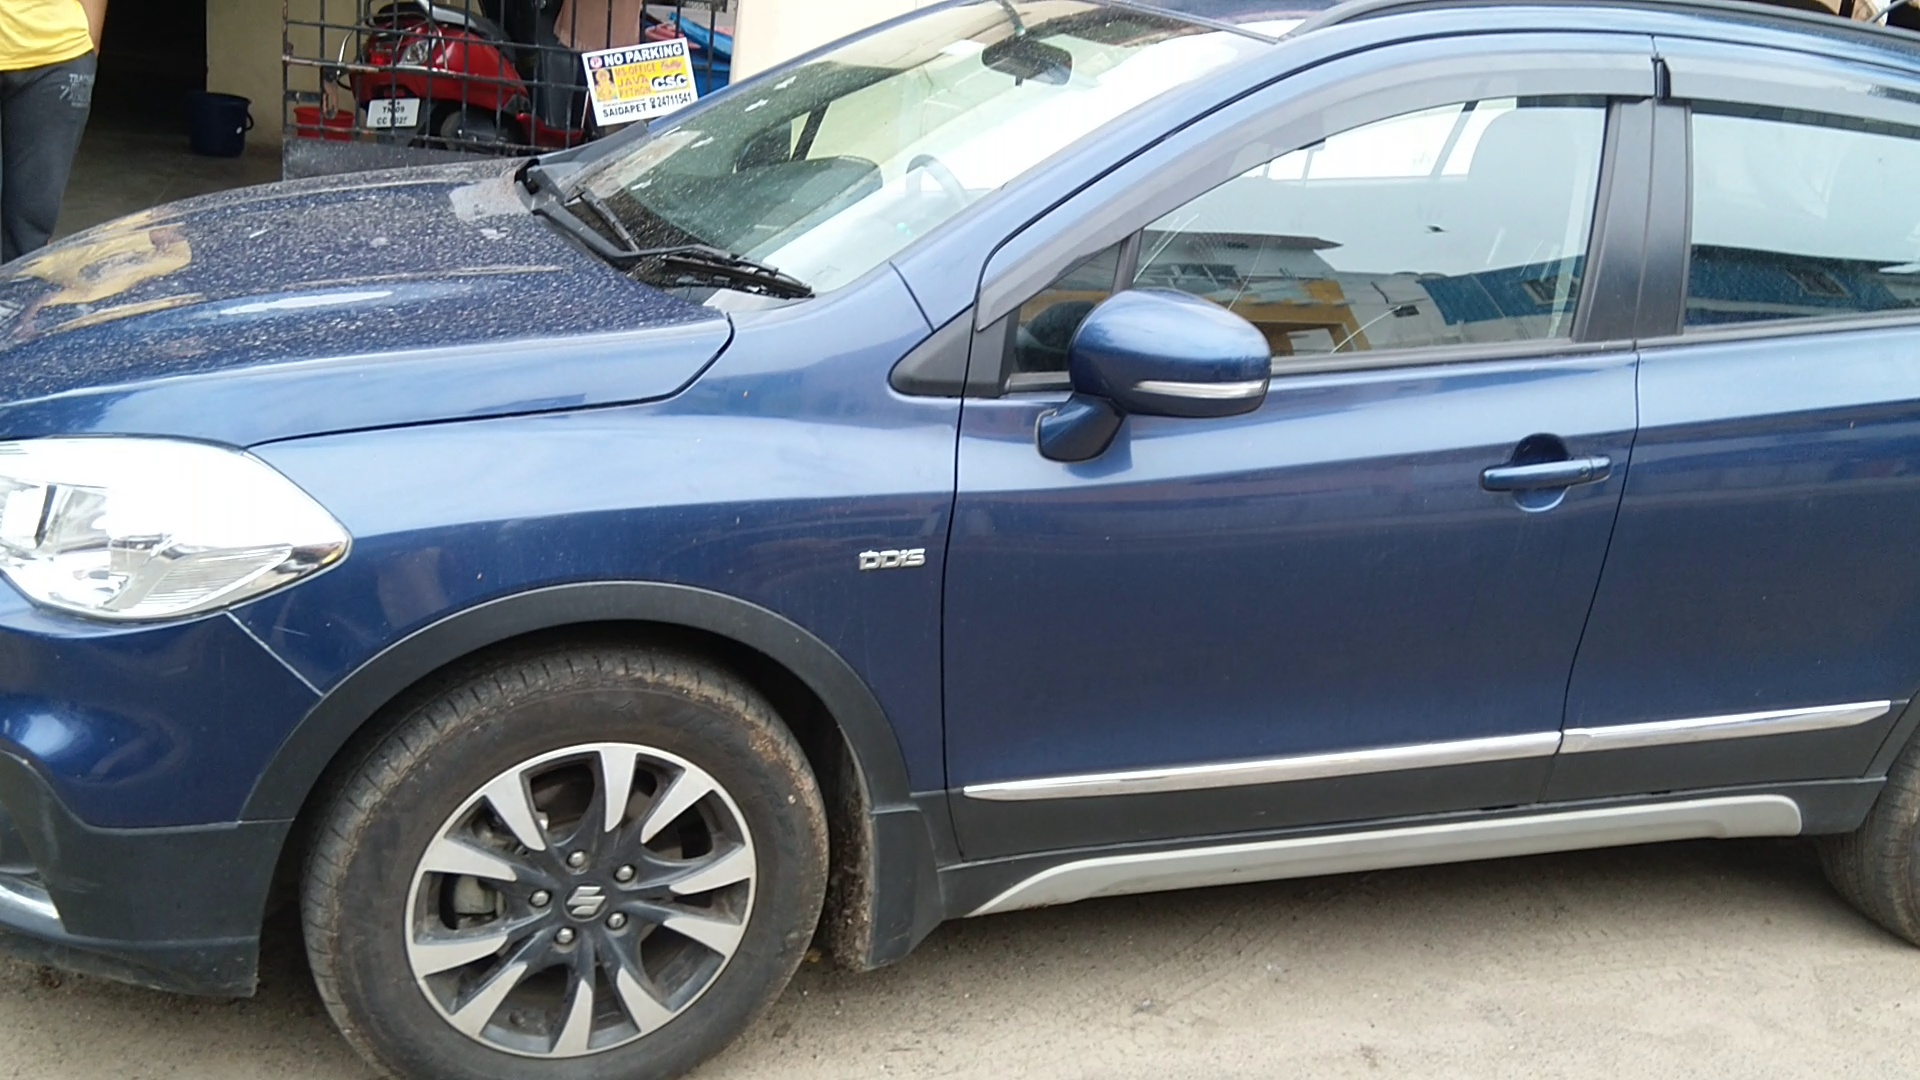alloy_wheel: (314, 684, 823, 1080)
headlamp: (1, 415, 404, 640)
ovr_mirror: (1050, 278, 1291, 491)
